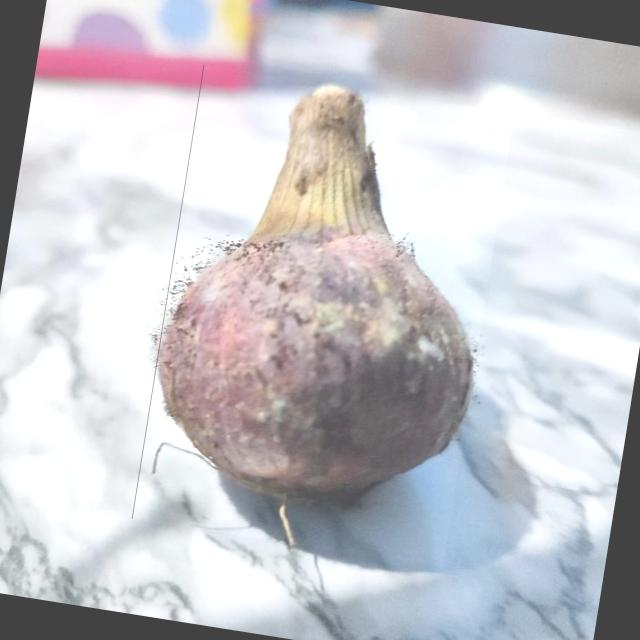rotten: (157, 86, 472, 544)
